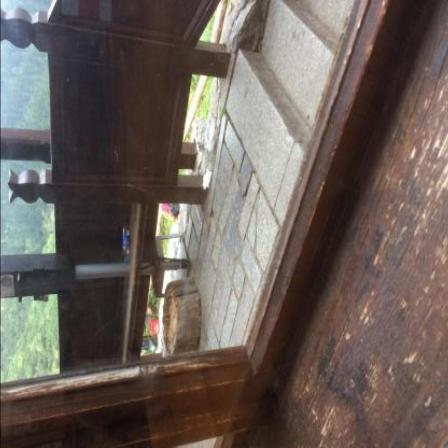Bottle: (123, 228, 131, 263)
Paper: (203, 170, 213, 191)
